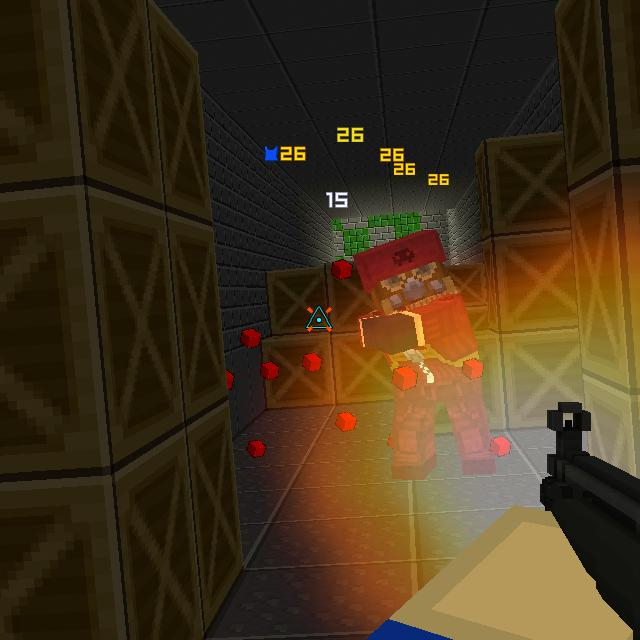enemy: (350, 229, 501, 482)
